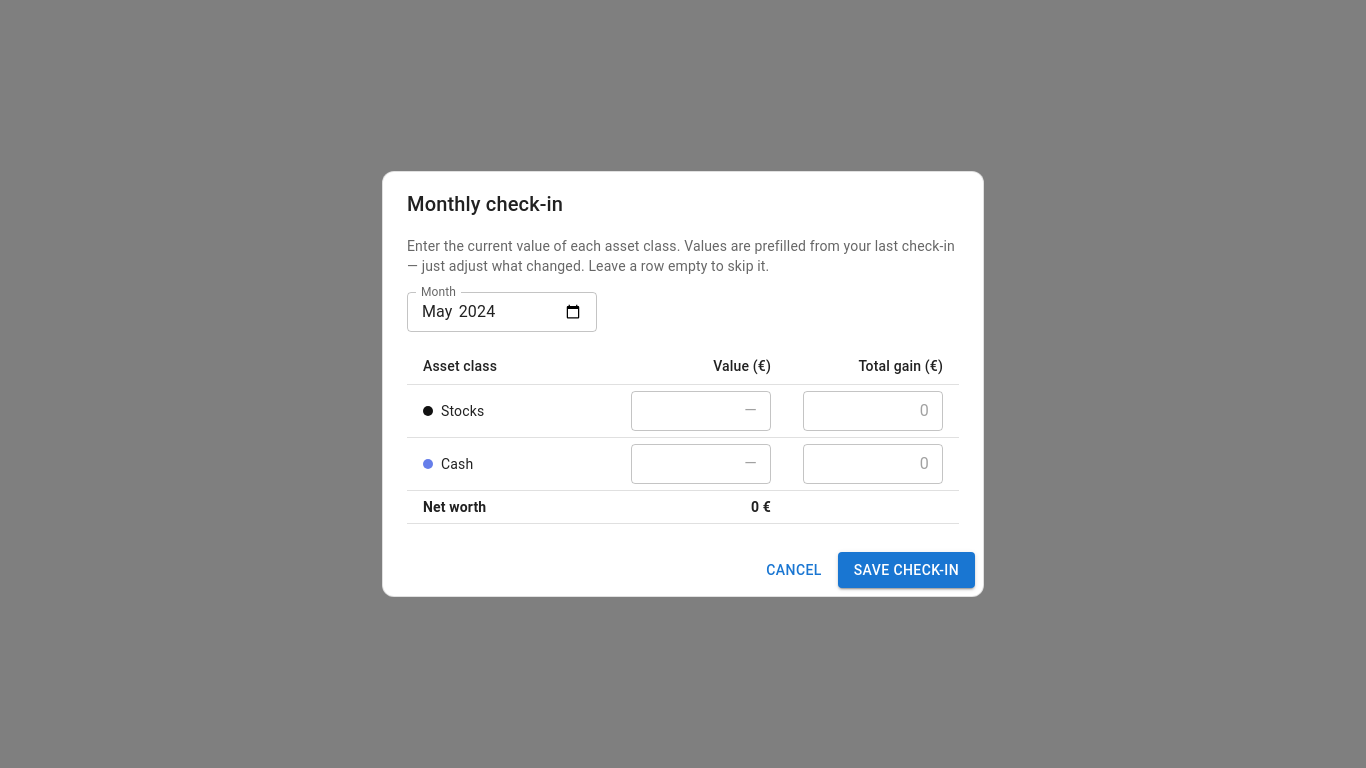
requires at least one entry before submitting
Click the button "Save check-in": (906, 570) [838,552,975,588]
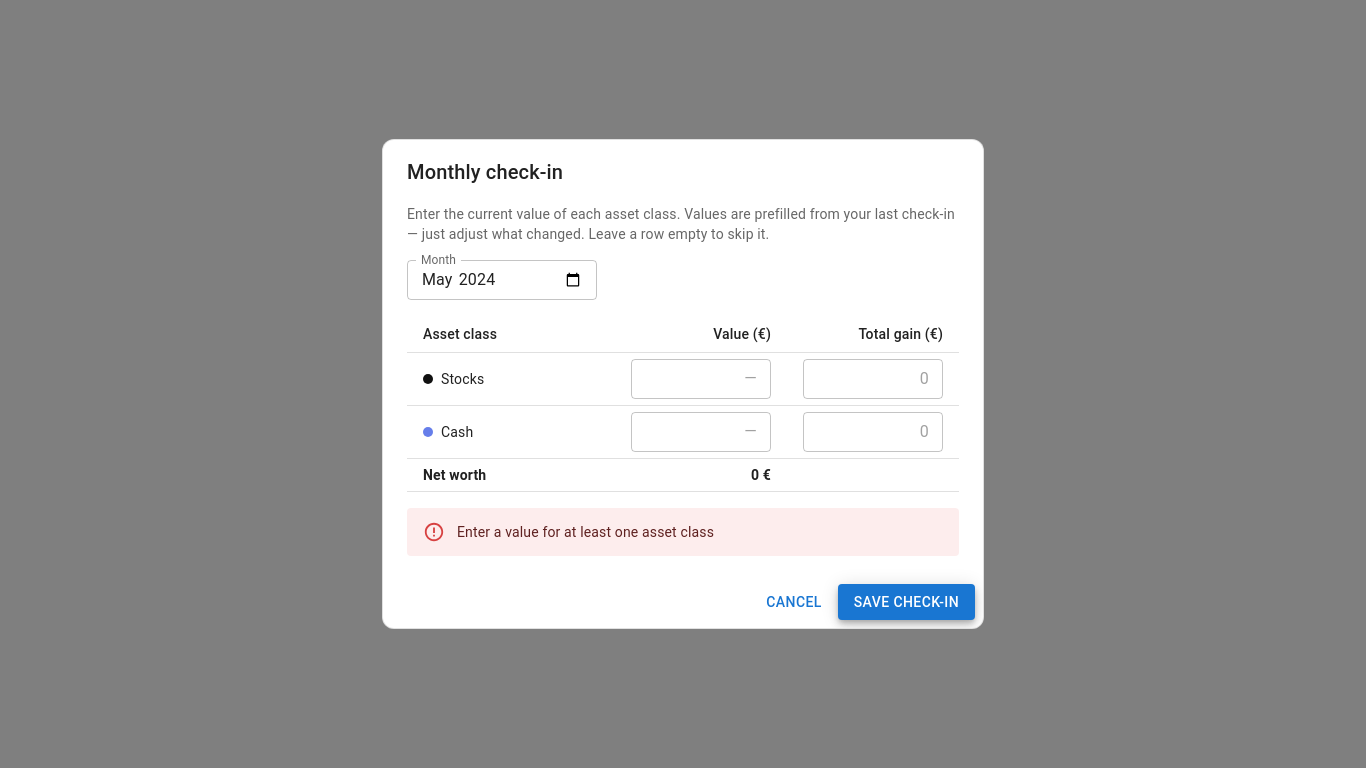
Expected: the text "Enter a value for at least one asset class" is shown, [457,524,714,540]
